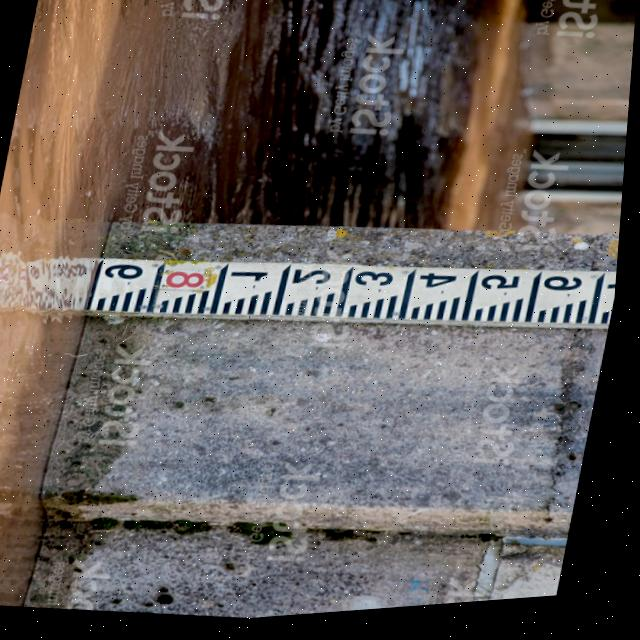water-meter: (48, 202, 622, 390)
